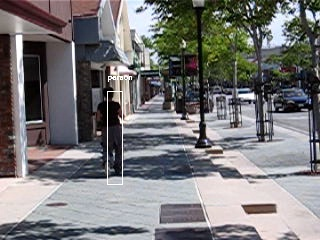person: (96, 87, 127, 181), (95, 87, 126, 181), (97, 87, 128, 181), (96, 86, 127, 180), (96, 88, 127, 182)
target_negative: (174, 60, 200, 194), (183, 29, 192, 66), (80, 181, 106, 190), (286, 114, 290, 153), (187, 218, 211, 224), (257, 111, 258, 112)
